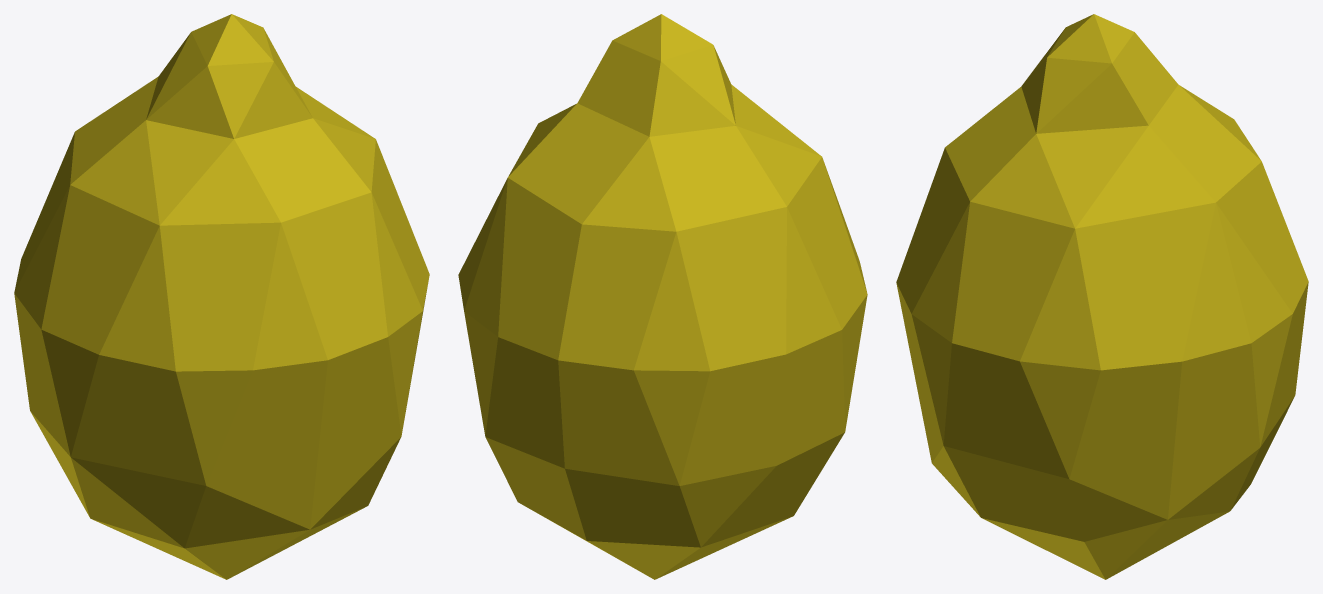
Rendered from lemon.glb.
3 renders of one model, left to right at view 1: azimuth 30°, elevation 25°; view 2: azimuth 150°, elevation 25°; view 3: azimuth 270°, elevation 25°, orthographic.
Parts seen in each view (by area): view 1: Lemon; view 2: Lemon; view 3: Lemon.
Part boxes in pixels (<box>): Lemon: <box>14,14,429,579</box>; Lemon: <box>458,14,867,579</box>; Lemon: <box>896,14,1308,579</box>.
Size of the model in its own units: 0.0878 by 0.1319 by 0.0872.
Materials: 1 (1 with a texture image).
